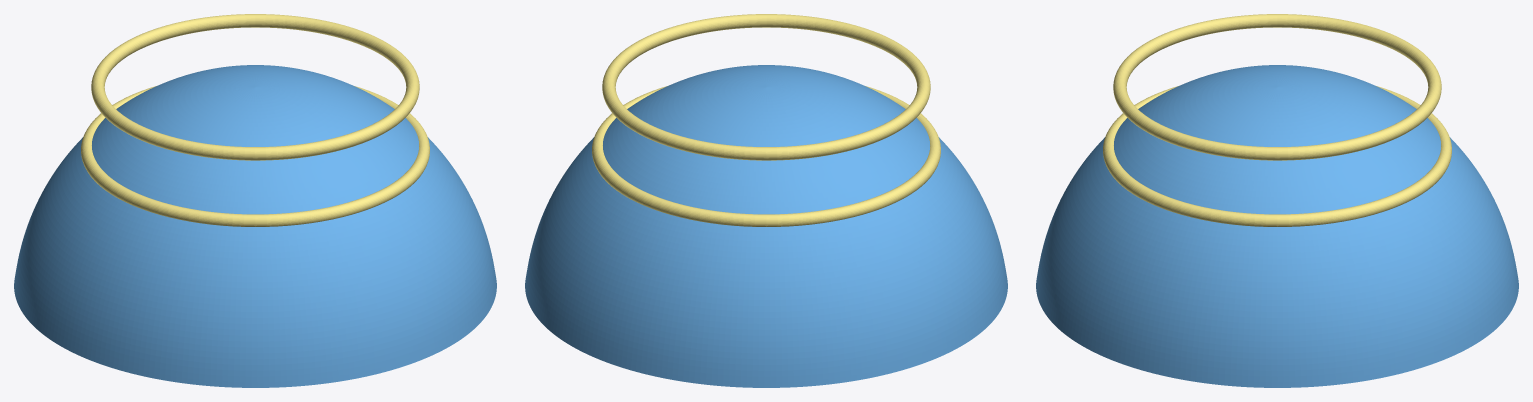
The model's file is Toy_ClimberDome_Hi.fbx.
The picture shows the model from 3 angles, left to right: view 1: azimuth 30°, elevation 25°; view 2: azimuth 150°, elevation 25°; view 3: azimuth 270°, elevation 25°; orthographic projection.
Parts seen in each view (by area): view 1: Sphere, Torus.003, Torus.002; view 2: Sphere, Torus.003, Torus.002; view 3: Sphere, Torus.003, Torus.002.
Boxes of the visible parts, box(x1,y1,x2,y2) form: Sphere: box(14, 65, 496, 387); Torus.003: box(91, 14, 419, 160); Torus.002: box(81, 86, 429, 226); Sphere: box(525, 65, 1007, 387); Torus.003: box(602, 14, 930, 160); Torus.002: box(592, 86, 940, 226); Sphere: box(1036, 65, 1518, 387); Torus.003: box(1113, 14, 1441, 160); Torus.002: box(1103, 86, 1451, 226).
Bounding box in the file's own units: 2.78 × 1.31 × 2.78.
